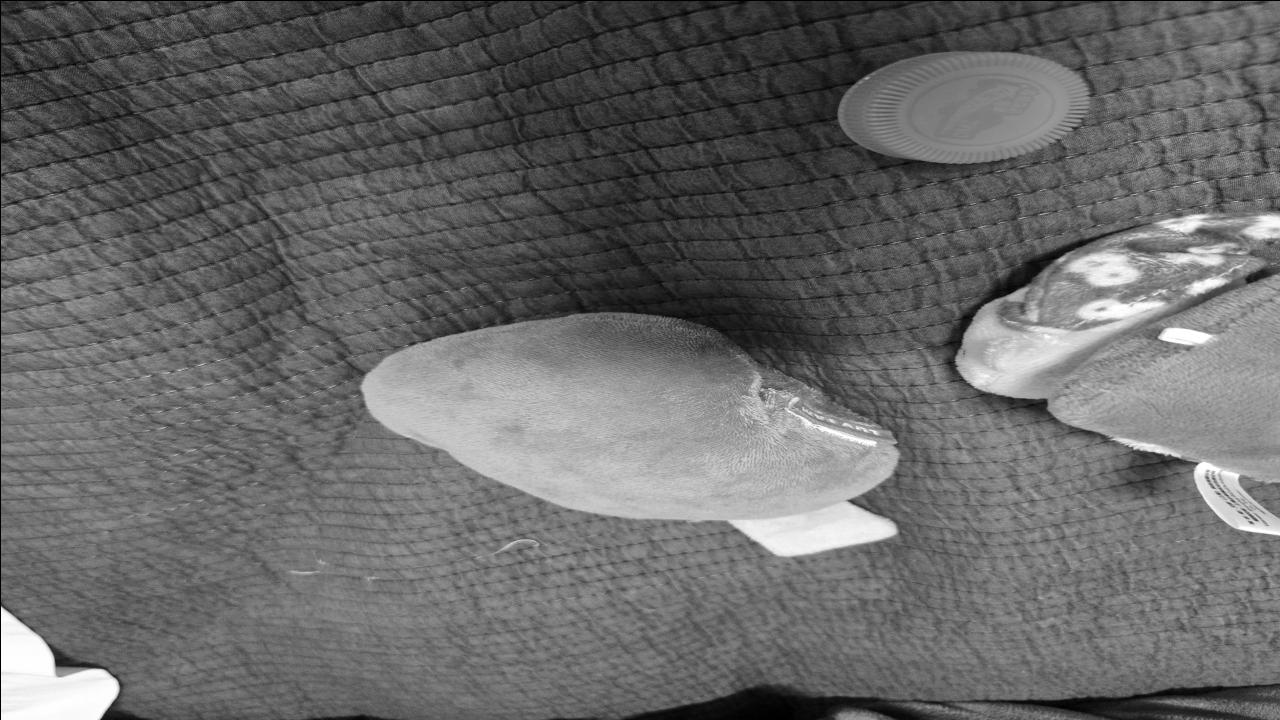bottle_cap: (839, 50, 1080, 160)
